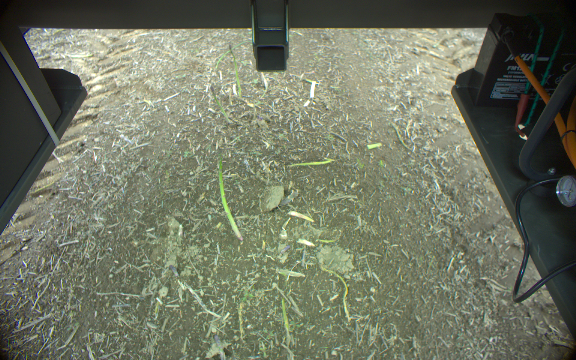aspa: (213, 153, 241, 241), (224, 44, 241, 96), (209, 84, 231, 124)
